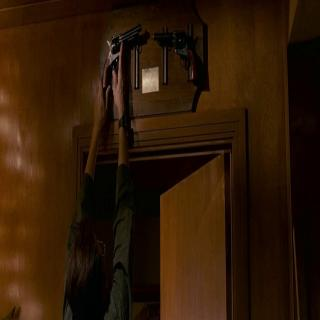gun: (100, 17, 148, 102), (153, 13, 201, 94)
